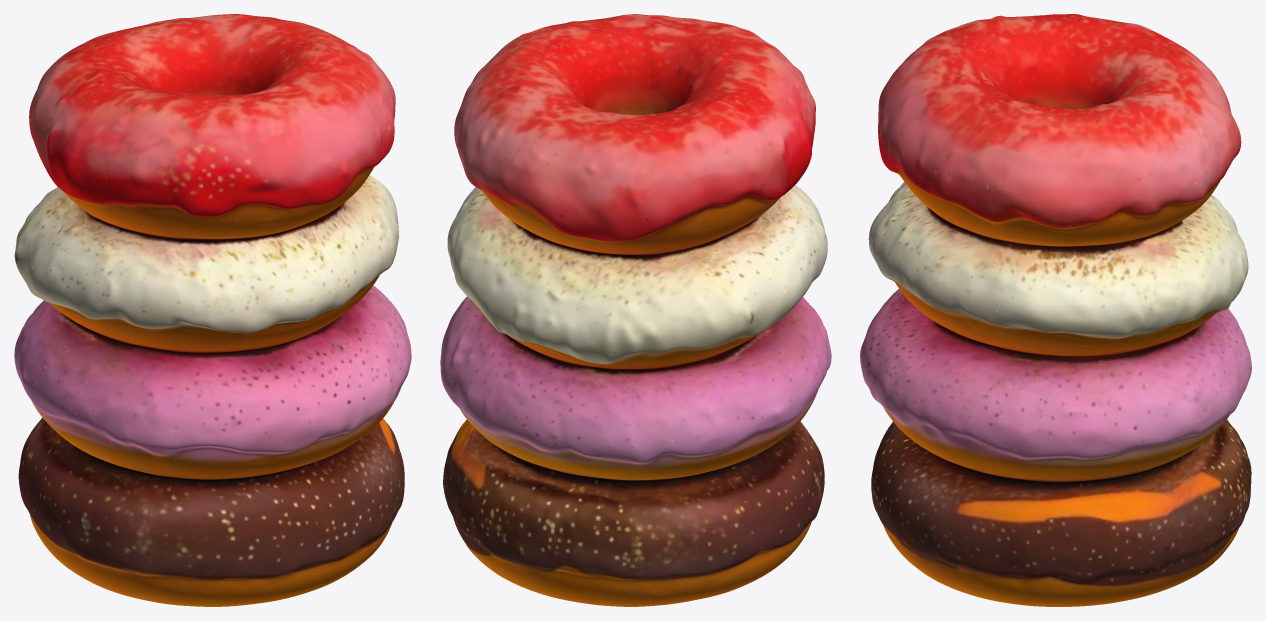
File: Meshy_AI_donut3d_0215110340_texture.compressed.glb
The picture shows the model from 3 angles, left to right: view 1: azimuth 30°, elevation 25°; view 2: azimuth 150°, elevation 25°; view 3: azimuth 270°, elevation 25°; orthographic projection.
Size of the model in its own units: 1.45 by 2 by 1.45.
Materials: 1 (1 with a texture image).
